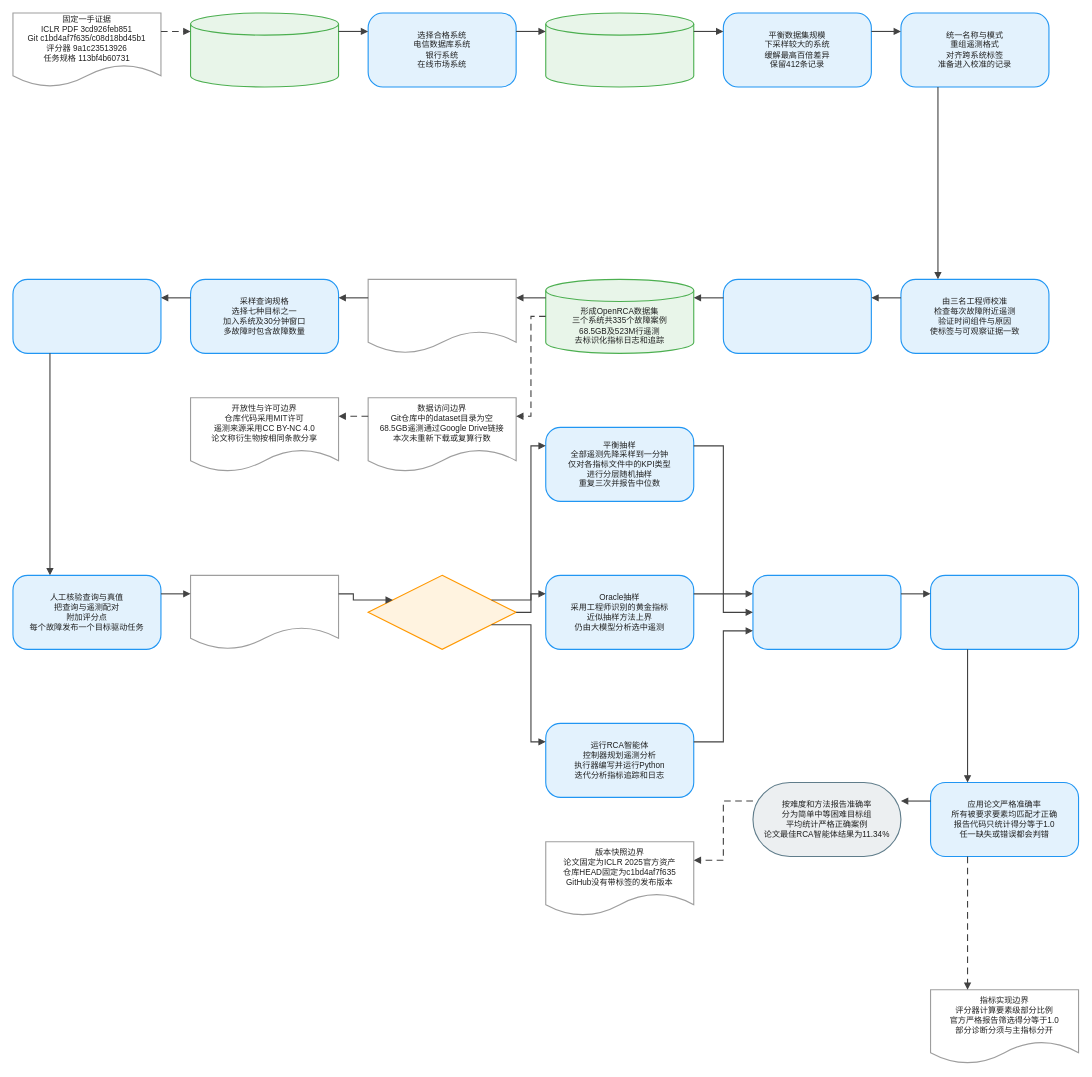
This 1092x1077 diagram has some shape labels left out. Here are the shapes that lost their labels. From the top down, the centre of each, then its label:
At [264,49]: "从AIOps挑战系列开始 使用真实故障记录与遥测 模式嘈杂且异构 包含指标日志和依赖追踪".
At [619,49]: "保留初始故障池 来自三个企业软件系统 共1,753条故障记录 具有关联遥测证据".
At [86,316]: "合成自然语言查询 使用GPT-4等大模型 把规格转换为请求 保持所选根因目标".
At [441,316]: "定义七种根因目标 取时间组件原因的全部非空子集 简单一项中等两项困难三项 开放式结构化预测".
At [797,316]: "过滤不可用故障 移除遥测缺失案例 移除无法识别根因案例 移除标签证据不一致案例".
At [264,612]: "提供查询与遥测 指定30分钟故障窗口 要求相应根因要素 采用类JSON结构化答案约定".
At [441,612]: "评测方法 平衡抽样 Oracle RCA智能体".
At [826,612]: "解析类JSON预测 要求包含被请求字段 允许出现额外字段 多故障采用排列匹配".
At [1004,612]: "评判被要求的要素 组件和原因必须精确匹配 时间允许正负一分钟误差 实现还会记录部分得分".
